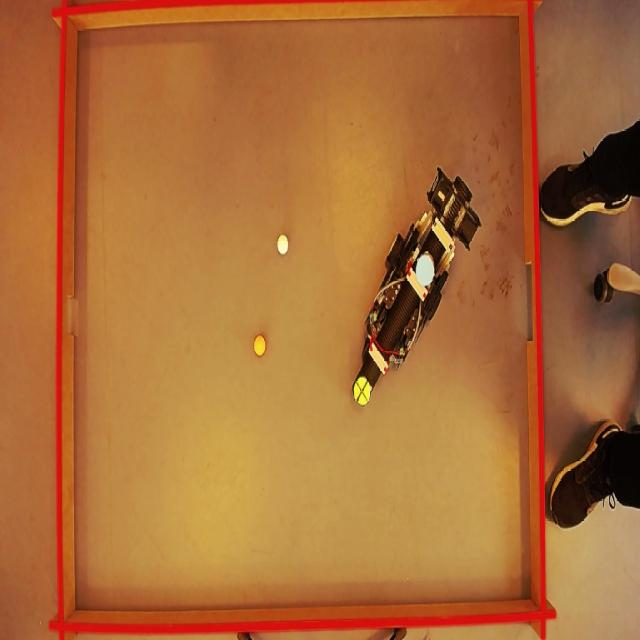orange: (253, 334, 267, 357)
robot: (354, 161, 482, 409)
robot-front: (354, 374, 372, 408)
robot-rear: (414, 252, 434, 286)
white: (276, 234, 289, 254)
